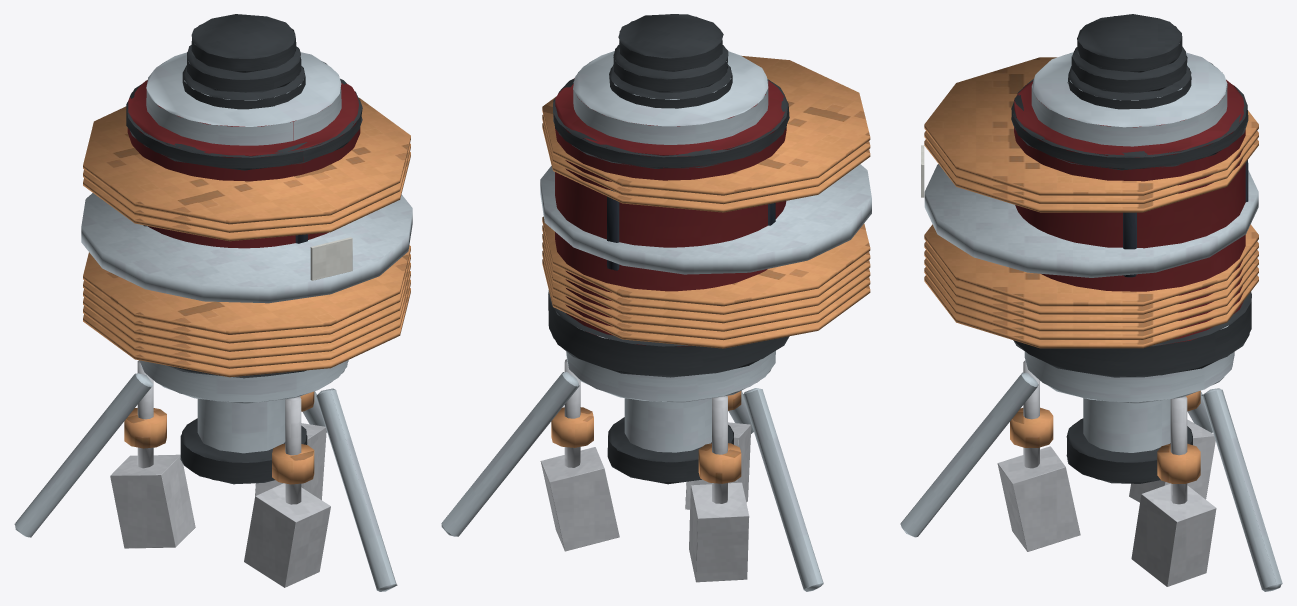
File: claw_magnet.glb
The picture shows the model from 3 angles, left to right: view 1: azimuth 30°, elevation 25°; view 2: azimuth 150°, elevation 25°; view 3: azimuth 270°, elevation 25°; orthographic projection.
Parts seen in each view (by area): view 1: Hand, Jaw0, Jaw2, Jaw1; view 2: Hand, Jaw2, Jaw1, Jaw0; view 3: Hand, Jaw1, Jaw0, Jaw2.
Part boxes in pixels (left/top/right/bottom): Hand: left=14, top=14, right=412, bottom=591; Jaw0: left=244, top=396, right=330, bottom=587; Jaw2: left=110, top=360, right=195, bottom=548; Jaw1: left=255, top=391, right=326, bottom=500; Hand: left=441, top=14, right=871, bottom=591; Jaw2: left=689, top=396, right=749, bottom=582; Jaw1: left=540, top=359, right=619, bottom=551; Jaw0: left=685, top=391, right=751, bottom=509; Hand: left=900, top=14, right=1282, bottom=591; Jaw1: left=1131, top=396, right=1216, bottom=586; Jaw0: left=997, top=360, right=1080, bottom=551; Jaw2: left=1129, top=390, right=1215, bottom=502.
Bounding box in the file's own units: 0.7756 × 1.08 × 0.7402.
Materials: 7 (7 with a texture image).
